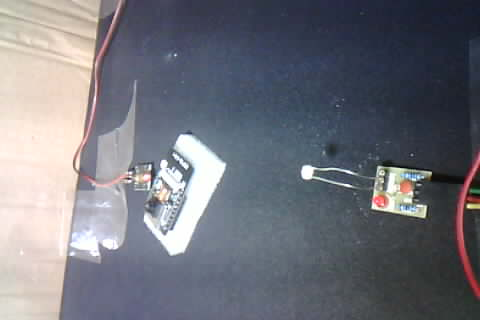esp32: (144, 143, 199, 237)
